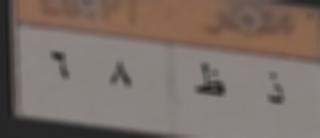6: (47, 49, 74, 85)
8: (103, 59, 136, 93)
Thaa: (190, 59, 229, 101)
zaal: (260, 70, 288, 107)
